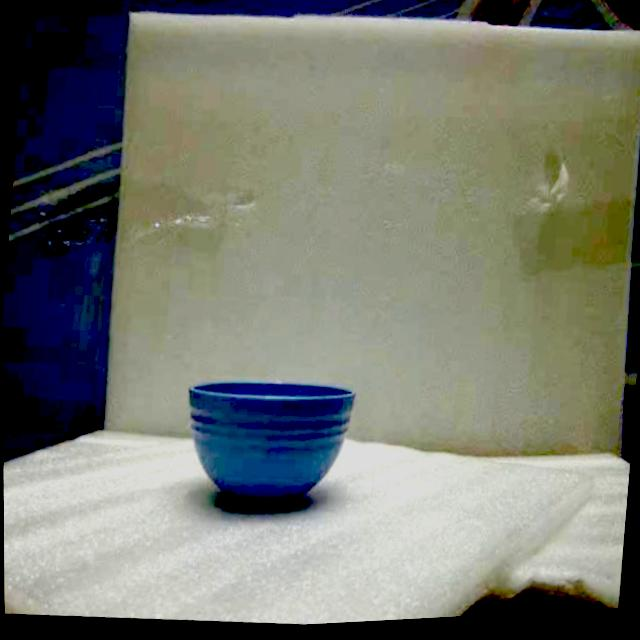Bowl: (189, 382, 353, 506)
